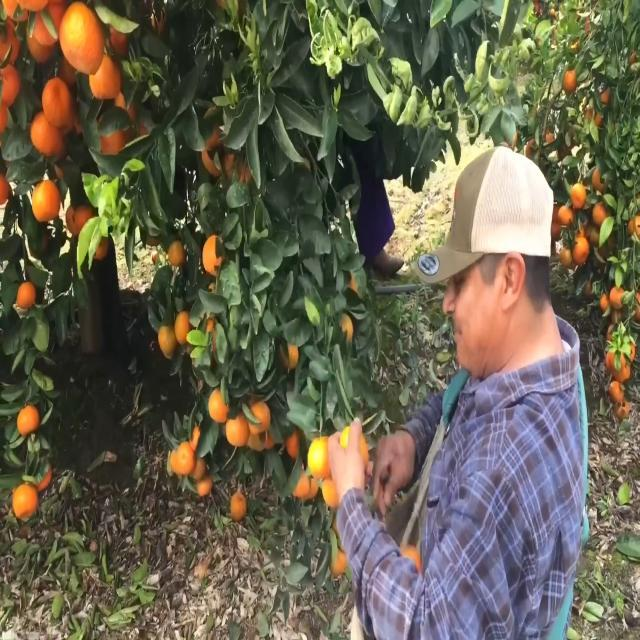Jeruk Sudah Matang: (58, 0, 108, 77), (83, 35, 129, 110), (38, 70, 78, 131), (28, 101, 64, 163), (199, 227, 229, 280), (30, 177, 62, 222), (10, 479, 41, 520), (220, 411, 250, 451), (171, 434, 196, 480), (15, 398, 43, 438), (15, 276, 38, 312), (252, 408, 276, 441), (208, 387, 228, 425), (574, 236, 592, 263)
